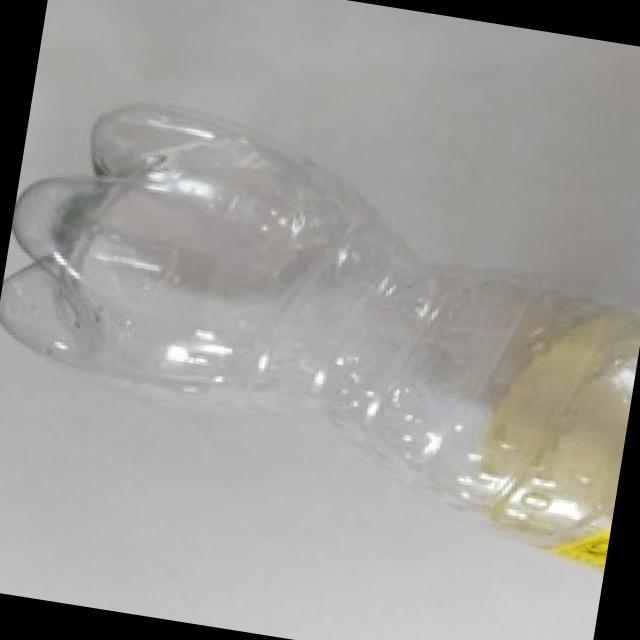good: (0, 78, 640, 582)
